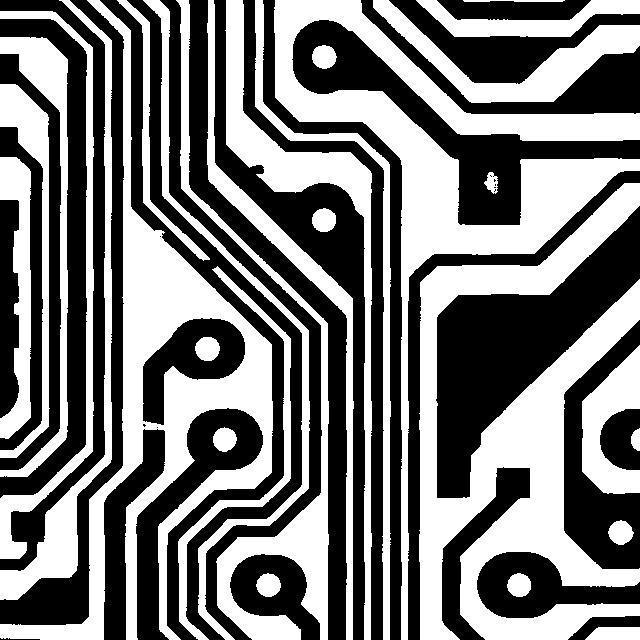mousebite: (143, 220, 174, 246)
open: (129, 411, 174, 439)
pin-hole: (474, 162, 507, 203)
short: (191, 247, 228, 278)
spur: (235, 155, 273, 184)
